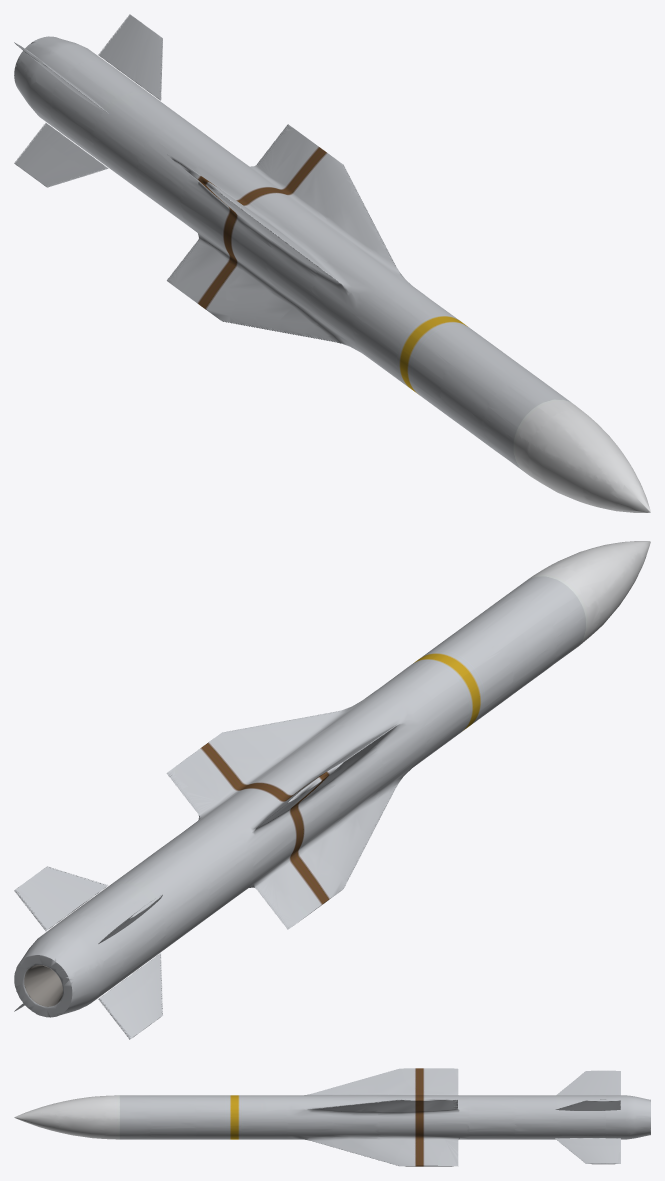
File: super530d.glb
The picture shows the model from 3 angles, top to bottom: view 1: azimuth 30°, elevation 25°; view 2: azimuth 150°, elevation 25°; view 3: azimuth 270°, elevation 25°; orthographic projection. The views are drawn at different scales.
Parts seen in each view (by area): view 1: airframe, fsim:elevator+aileron:1+rudder:1@-20,20, fsim:elevator+aileron:-1+rudder:1@-20,20; view 2: airframe, fsim:elevator+aileron:1+rudder:1@-20,20, fsim:elevator+aileron:-1+rudder:1@-20,20; view 3: airframe, fsim:elevator+aileron:1+rudder:-1@-20,20, fsim:elevator+aileron:-1+rudder:-1@-20,20, fsim:elevator+aileron:1+rudder:1@-20,20.
Part boxes in pixels (<box>): airframe: <box>14,36,650,512</box>; fsim:elevator+aileron:1+rudder:1@-20,20: <box>98,14,162,100</box>; fsim:elevator+aileron:-1+rudder:1@-20,20: <box>14,123,108,187</box>; airframe: <box>14,541,650,1017</box>; fsim:elevator+aileron:1+rudder:1@-20,20: <box>14,866,108,931</box>; fsim:elevator+aileron:-1+rudder:1@-20,20: <box>98,953,162,1039</box>; airframe: <box>14,1068,650,1166</box>; fsim:elevator+aileron:1+rudder:-1@-20,20: <box>555,1138,620,1164</box>; fsim:elevator+aileron:-1+rudder:-1@-20,20: <box>556,1070,620,1095</box>; fsim:elevator+aileron:1+rudder:1@-20,20: <box>555,1099,620,1110</box>.
Size of the model in its own units: 0.4488 by 0.4493 by 3.8.
Materials: 3 (1 with a texture image).
